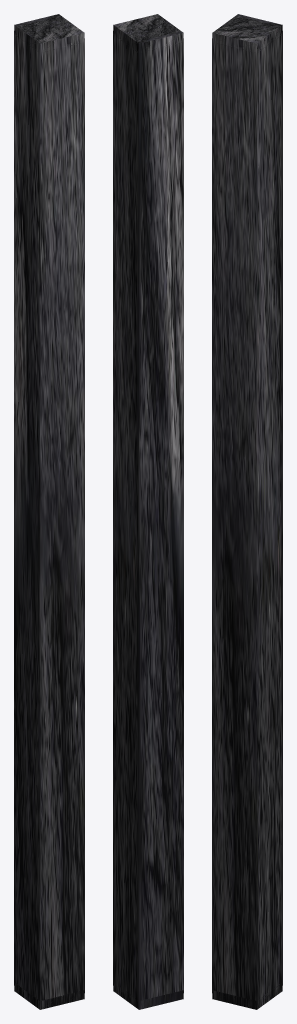
File: StonePost1.glb
The picture shows the model from 3 angles, left to right: view 1: azimuth 30°, elevation 25°; view 2: azimuth 210°, elevation 25°; view 3: azimuth 330°, elevation 25°; orthographic projection.
Parts seen in each view (by area): view 1: Cube; view 2: Cube; view 3: Cube.
Part boxes in pixels (<box>): Cube: <box>14,14,84,1009</box>; Cube: <box>113,14,183,1009</box>; Cube: <box>212,14,282,1009</box>.
Size of the model in its own units: 0.08 by 1.63 by 0.08.
1 material, 1 textured.
